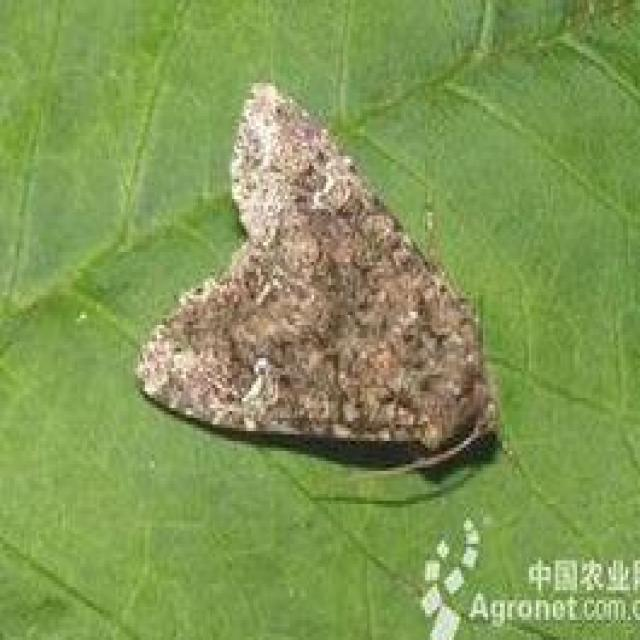BeetArmyWorm-Adult-: (115, 66, 514, 486)
